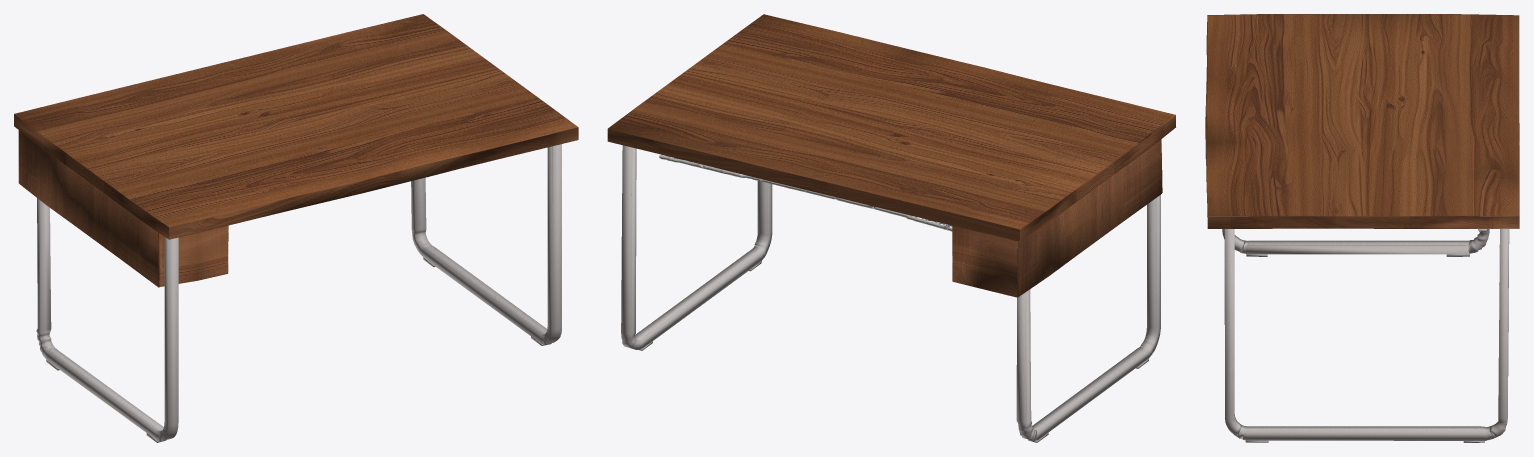
File: Office Desk.fbx
3 renders of one model, left to right at view 1: azimuth 30°, elevation 25°; view 2: azimuth 150°, elevation 25°; view 3: azimuth 270°, elevation 25°, orthographic.
Visible parts, largest first — view 1: Mesh_0.002; view 2: Mesh_0.002; view 3: Mesh_0.002.
Part boxes in pixels (bbox=[...]): Mesh_0.002: bbox=[14, 14, 578, 442]; Mesh_0.002: bbox=[607, 14, 1175, 442]; Mesh_0.002: bbox=[1205, 14, 1519, 442].
Bounding box in the file's own units: 95.36 × 51.66 × 62.7.
Materials: 1 (1 with a texture image).
